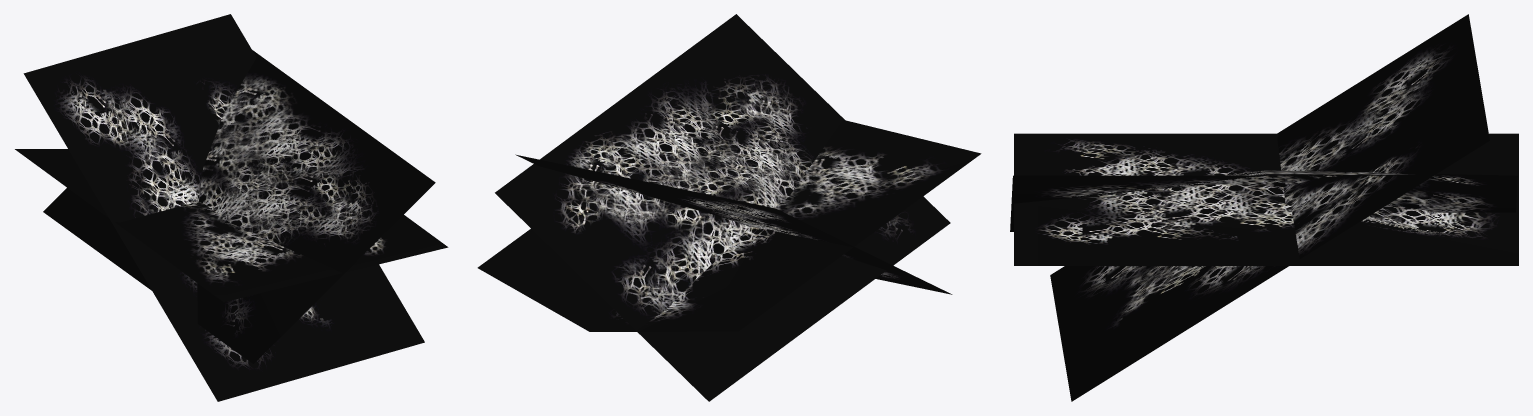
The model's file is FungisAtlas3.fbx.
3 renders of one model, left to right at view 1: azimuth 30°, elevation 25°; view 2: azimuth 150°, elevation 25°; view 3: azimuth 270°, elevation 25°, orthographic. The views are drawn at different scales.
Visible parts, largest first — view 1: Plane.010; view 2: Plane.010; view 3: Plane.010.
Part boxes in pixels (<box>): Plane.010: <box>15,14,448,401</box>; Plane.010: <box>477,14,981,401</box>; Plane.010: <box>1010,14,1518,401</box>.
Size of the model in its own units: 105 by 87.88 by 163.
